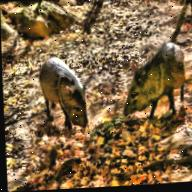boar: (118, 40, 187, 120), (37, 53, 89, 131)
